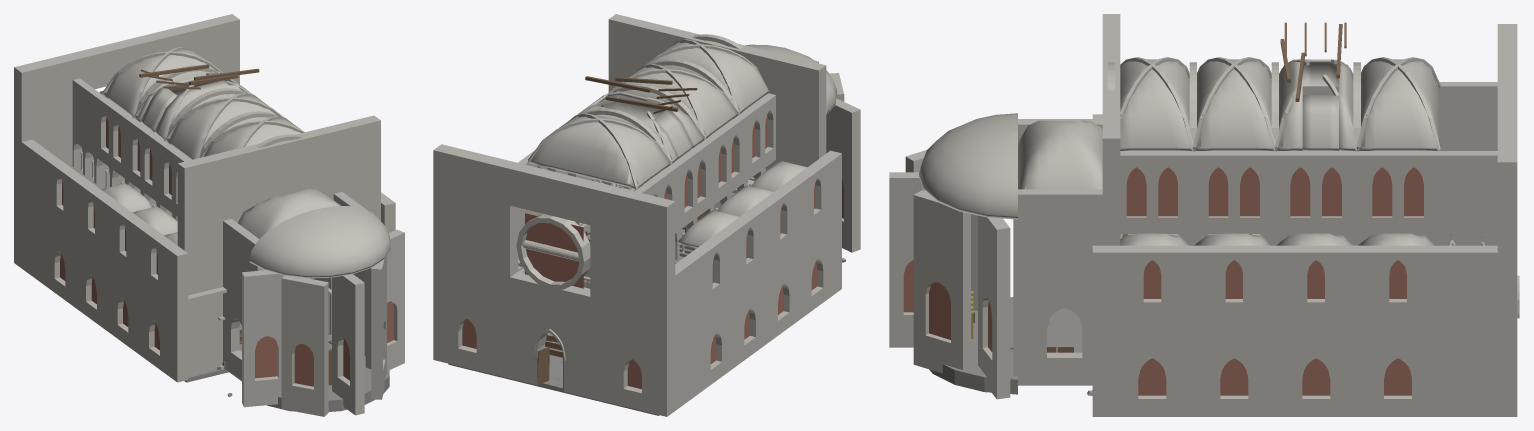
File: igreja_interior.glb
3 renders of one model, left to right at view 1: azimuth 30°, elevation 25°; view 2: azimuth 150°, elevation 25°; view 3: azimuth 270°, elevation 25°, orthographic. The views are drawn at different scales.
Parts seen in each view (by area): view 1: SM_igr_f_pedra, SM_igr_a_pedra, SM_igr_e_pedra, SM_igr_c_pedra, SM_igr_d_pedra, SM_igr_b_pedra, SM_igr_f_vitral_larga, SM_igr_f_pedra_esc, SM_igr_c_madeira; view 2: SM_igr_a_pedra, SM_igr_e_pedra, SM_igr_f_pedra, SM_igr_c_pedra, SM_igr_d_pedra, SM_igr_b_pedra, SM_igr_a_vitral_rosacea, SM_igr_c_madeira, SM_igr_a_pedra_esc, SM_igr_a_vitral_larga_roto, SM_igr_a_madeira; view 3: SM_igr_f_pedra, SM_igr_e_pedra, SM_igr_a_pedra, SM_igr_c_pedra, SM_igr_d_pedra, SM_igr_b_pedra, SM_igr_f_pedra_esc, SM_igr_e_vitral_lanceta, SM_igr_c_vitral_lanceta, SM_igr_b_vitral_lanceta, SM_igr_d_vitral_lanceta, SM_igr_f_vitral_larga (+5 smaller).
Boxes of the visible parts, left/top/right/bottom form: SM_igr_f_pedra: left=177, top=115, right=404, bottom=416; SM_igr_a_pedra: left=14, top=14, right=239, bottom=292; SM_igr_e_pedra: left=126, top=111, right=395, bottom=382; SM_igr_c_pedra: left=63, top=65, right=314, bottom=323; SM_igr_d_pedra: left=95, top=88, right=324, bottom=346; SM_igr_b_pedra: left=54, top=46, right=222, bottom=299; SM_igr_f_vitral_larga: left=255, top=301, right=393, bottom=386; SM_igr_f_pedra_esc: left=184, top=334, right=389, bottom=411; SM_igr_c_madeira: left=139, top=64, right=259, bottom=89; SM_igr_a_pedra: left=433, top=144, right=712, bottom=416; SM_igr_e_pedra: left=597, top=39, right=841, bottom=326; SM_igr_f_pedra: left=608, top=14, right=860, bottom=252; SM_igr_c_pedra: left=518, top=90, right=775, bottom=376; SM_igr_d_pedra: left=583, top=64, right=789, bottom=351; SM_igr_b_pedra: left=518, top=113, right=721, bottom=384; SM_igr_a_vitral_rosacea: left=525, top=213, right=583, bottom=288; SM_igr_c_madeira: left=585, top=76, right=697, bottom=113; SM_igr_a_pedra_esc: left=448, top=359, right=659, bottom=415; SM_igr_a_vitral_larga_roto: left=462, top=319, right=641, bottom=389; SM_igr_a_madeira: left=537, top=347, right=563, bottom=391; SM_igr_f_pedra: left=889, top=14, right=1127, bottom=399; SM_igr_e_pedra: left=1092, top=57, right=1225, bottom=416; SM_igr_a_pedra: left=1407, top=24, right=1519, bottom=416; SM_igr_c_pedra: left=1120, top=59, right=1497, bottom=416; SM_igr_d_pedra: left=1193, top=57, right=1307, bottom=416; SM_igr_b_pedra: left=1357, top=57, right=1453, bottom=416; SM_igr_f_pedra_esc: left=929, top=297, right=1092, bottom=395; SM_igr_e_vitral_lanceta: left=1126, top=167, right=1177, bottom=298; SM_igr_c_vitral_lanceta: left=1290, top=167, right=1341, bottom=298; SM_igr_b_vitral_lanceta: left=1372, top=167, right=1423, bottom=298; SM_igr_d_vitral_lanceta: left=1208, top=167, right=1259, bottom=298; SM_igr_f_vitral_larga: left=903, top=260, right=992, bottom=351.
Size of what is drawn, in the model's own units: 28 by 28.3 by 53.9.
